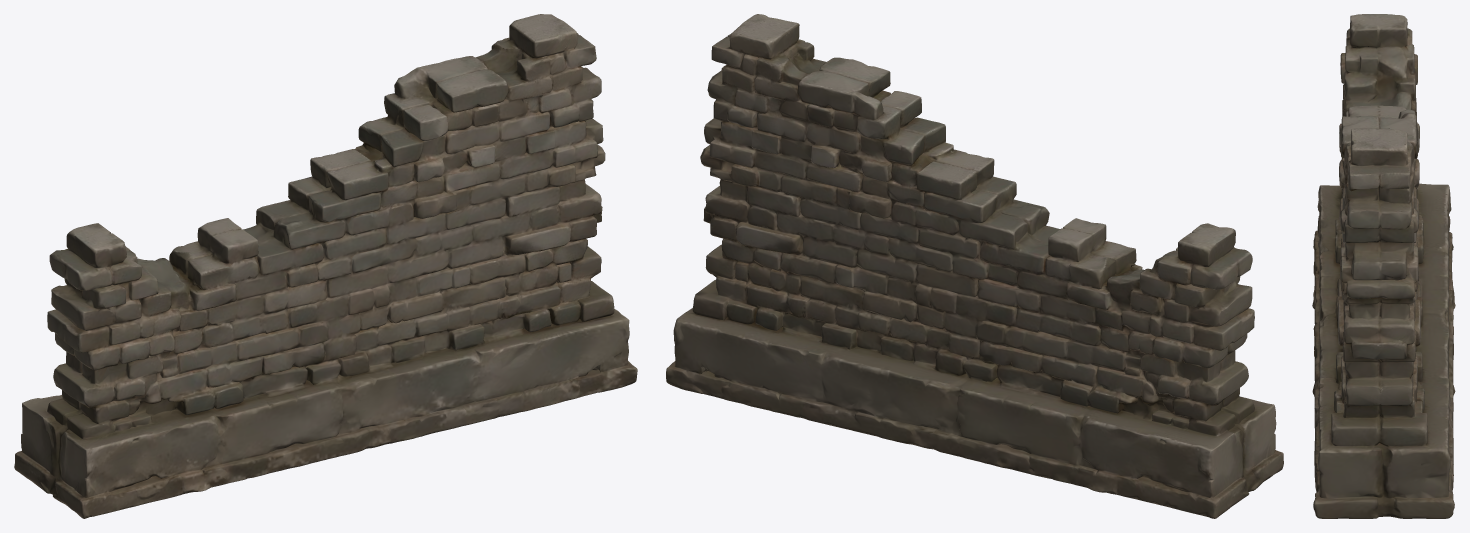
Rendered from tripo_convert_94df2591-a4e7-4d21-95a0-8e2777e0c0a4.fbx.
3 renders of one model, left to right at view 1: azimuth 30°, elevation 25°; view 2: azimuth 150°, elevation 25°; view 3: azimuth 270°, elevation 25°, orthographic.
Parts seen in each view (by area): view 1: tripo_node_94df2591; view 2: tripo_node_94df2591; view 3: tripo_node_94df2591.
Boxes of the visible parts, box(x1,y1,x2,y2) form: tripo_node_94df2591: box(14, 14, 637, 518); tripo_node_94df2591: box(666, 14, 1283, 518); tripo_node_94df2591: box(1312, 14, 1455, 518).
Size of the model in its own units: 1 by 0.6017 by 0.2226.
Materials: 1 (1 with a texture image).
